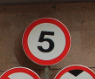speed_limit_5: (22, 18, 71, 66)
